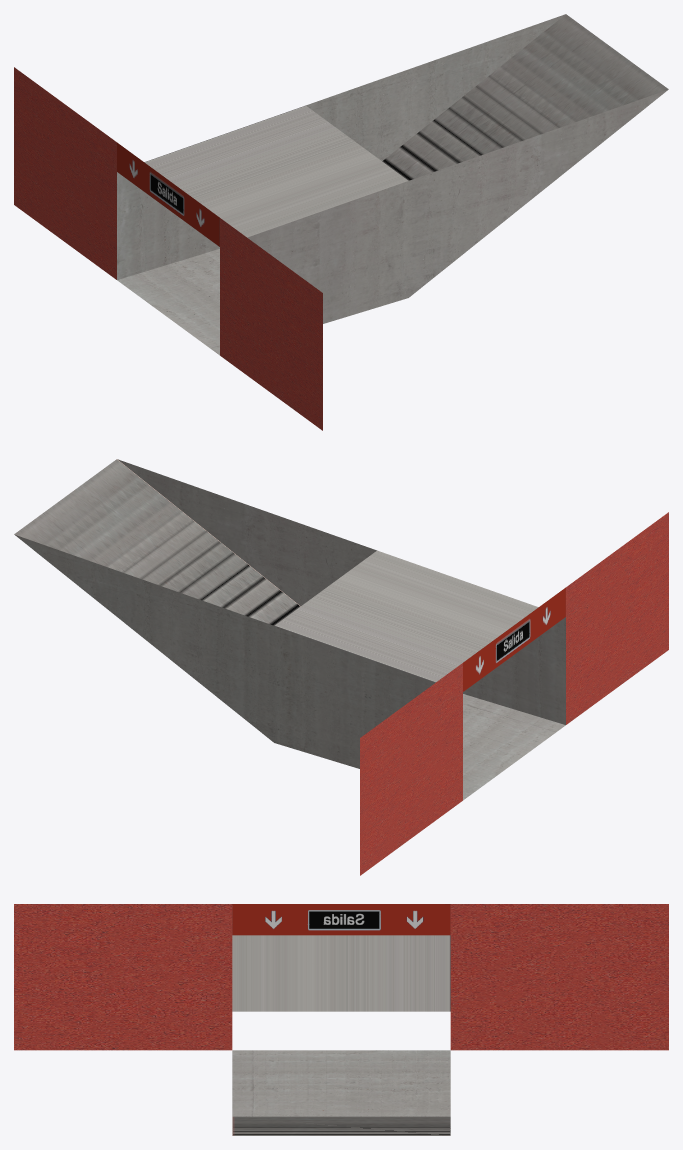
The model's file is ESTADIO_muroGradasFondo.FBX.
3 renders of one model, top to bottom at view 1: azimuth 30°, elevation 25°; view 2: azimuth 150°, elevation 25°; view 3: azimuth 270°, elevation 25°, orthographic. The views are drawn at different scales.
Visible parts, largest first — view 1: ESTADIO_muroGradasFondo; view 2: ESTADIO_muroGradasFondo; view 3: ESTADIO_muroGradasFondo.
Part boxes in pixels (bbox=[...]): ESTADIO_muroGradasFondo: bbox=[14, 14, 668, 430]; ESTADIO_muroGradasFondo: bbox=[14, 459, 668, 875]; ESTADIO_muroGradasFondo: bbox=[14, 904, 668, 1135].
Size of the model in its own units: 1363 by 454 by 1624.
